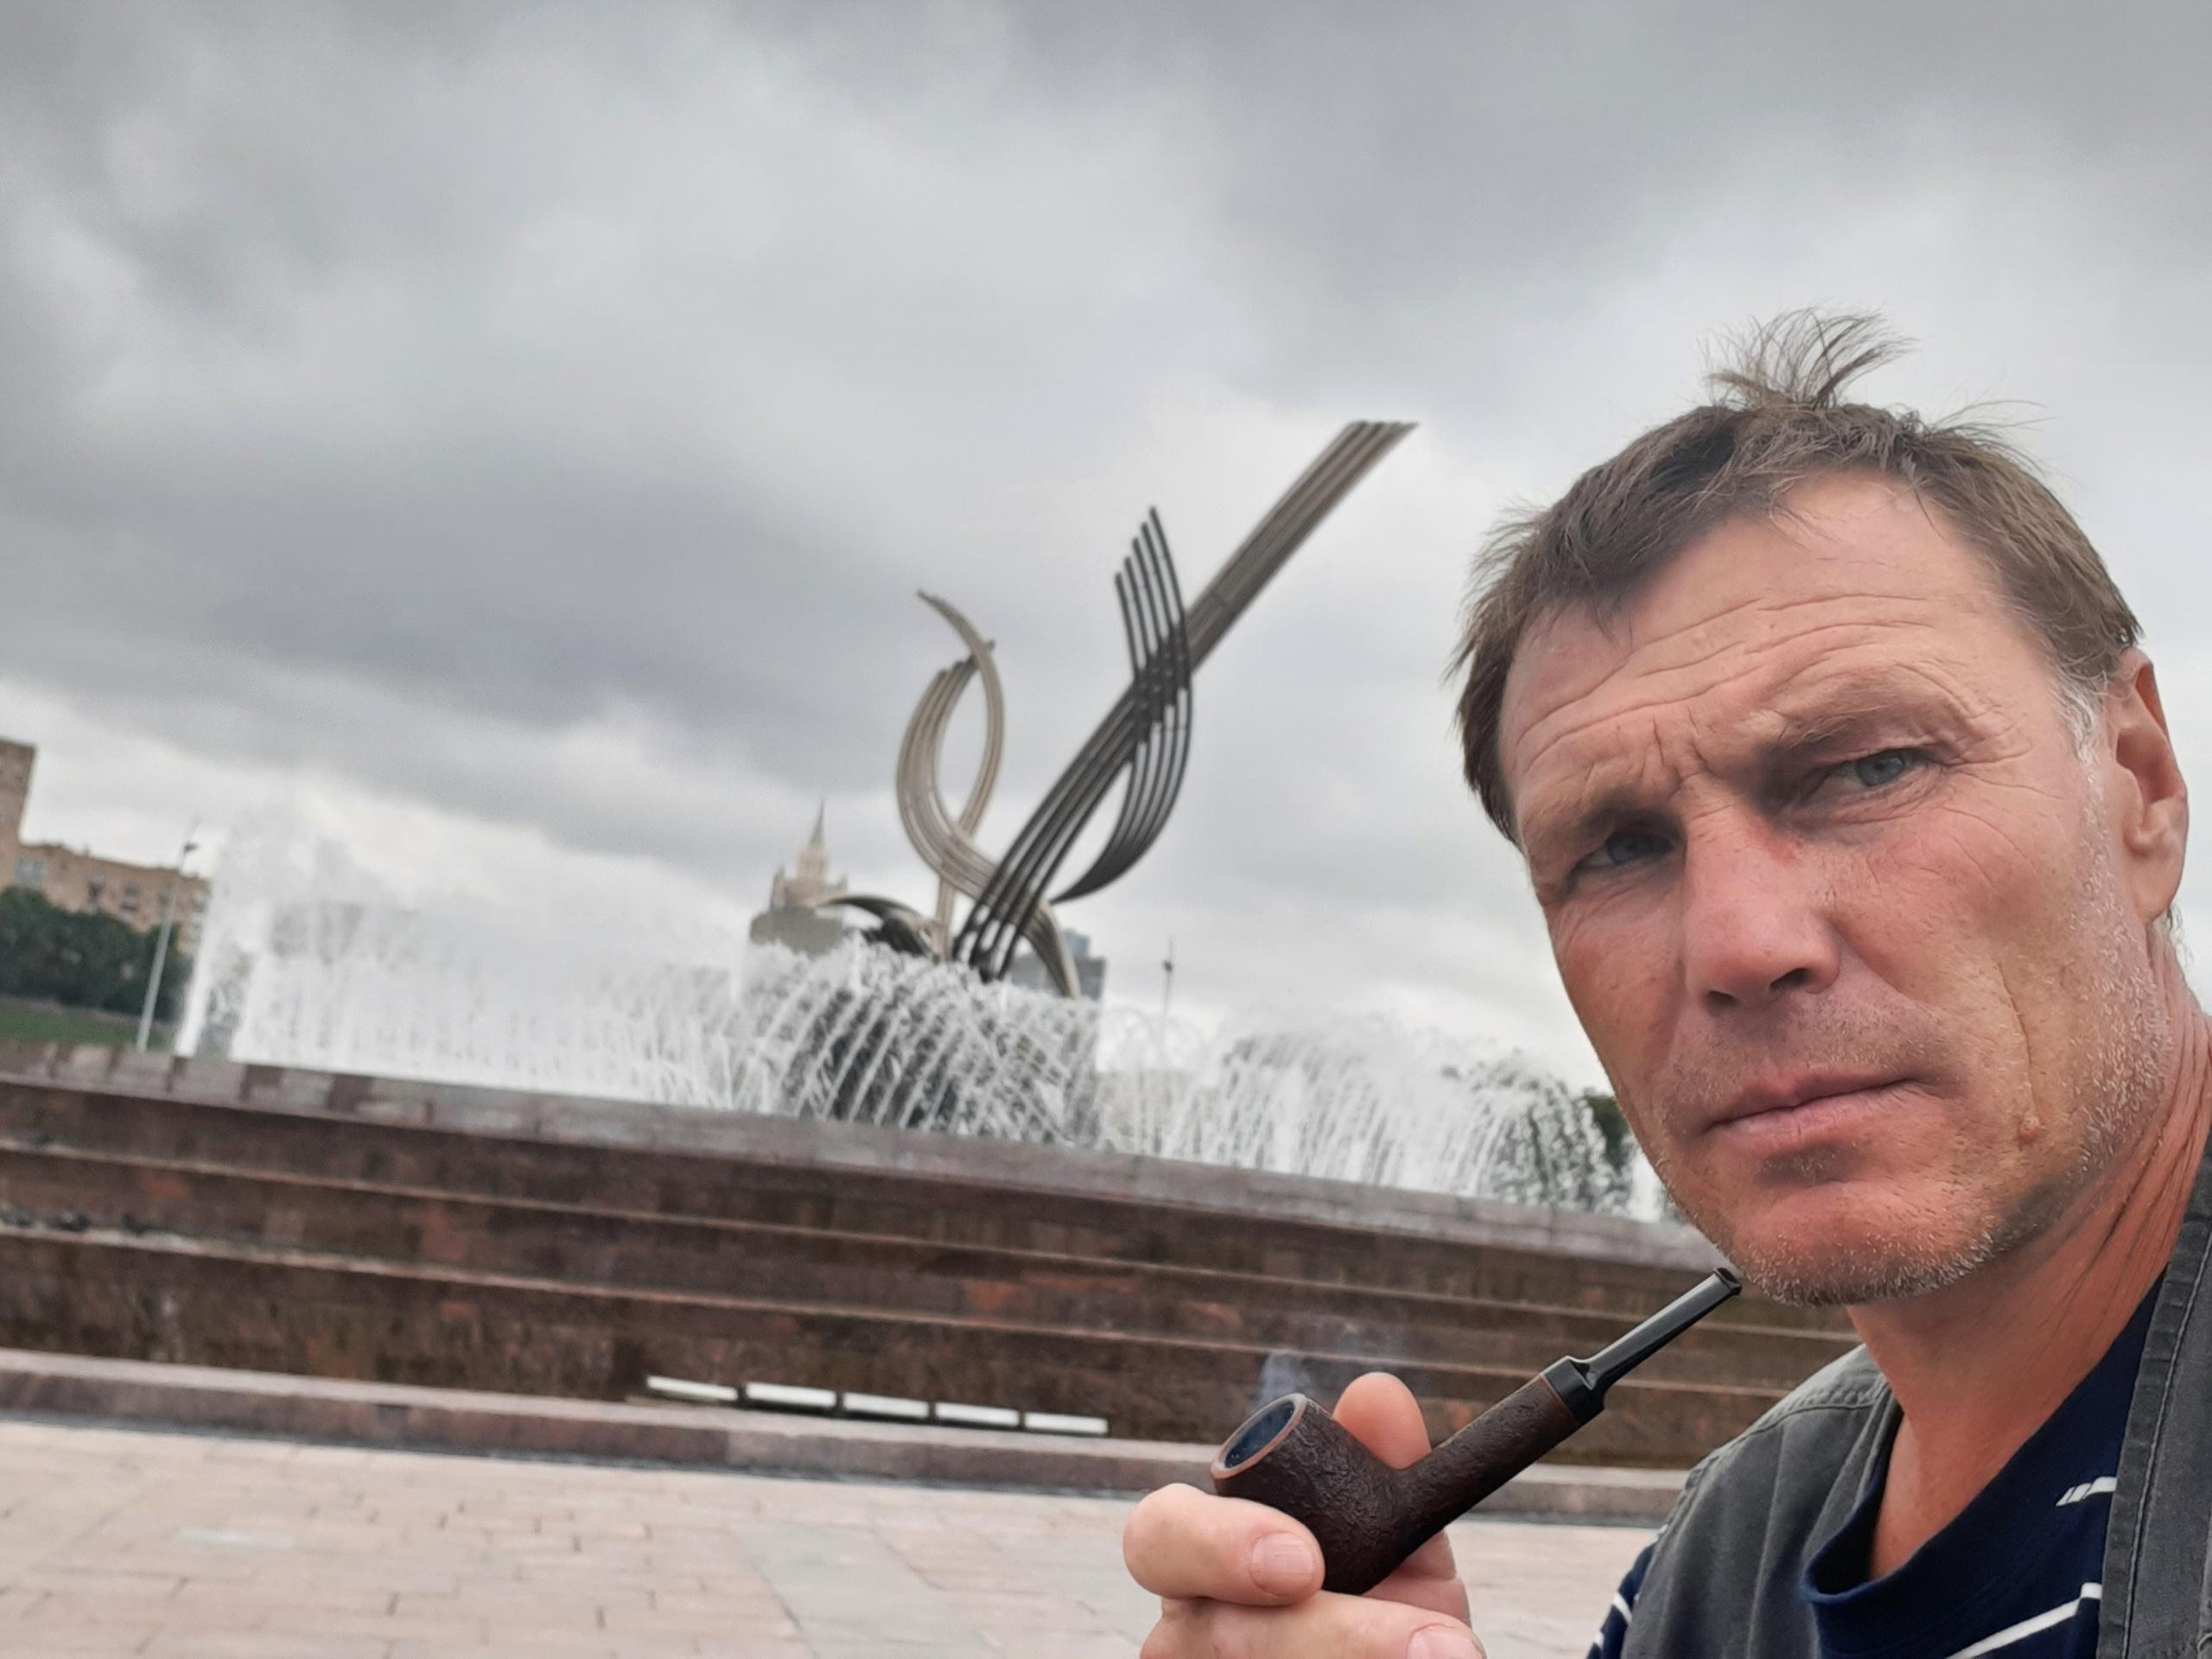trubka: (1212, 1269, 1740, 1593)
